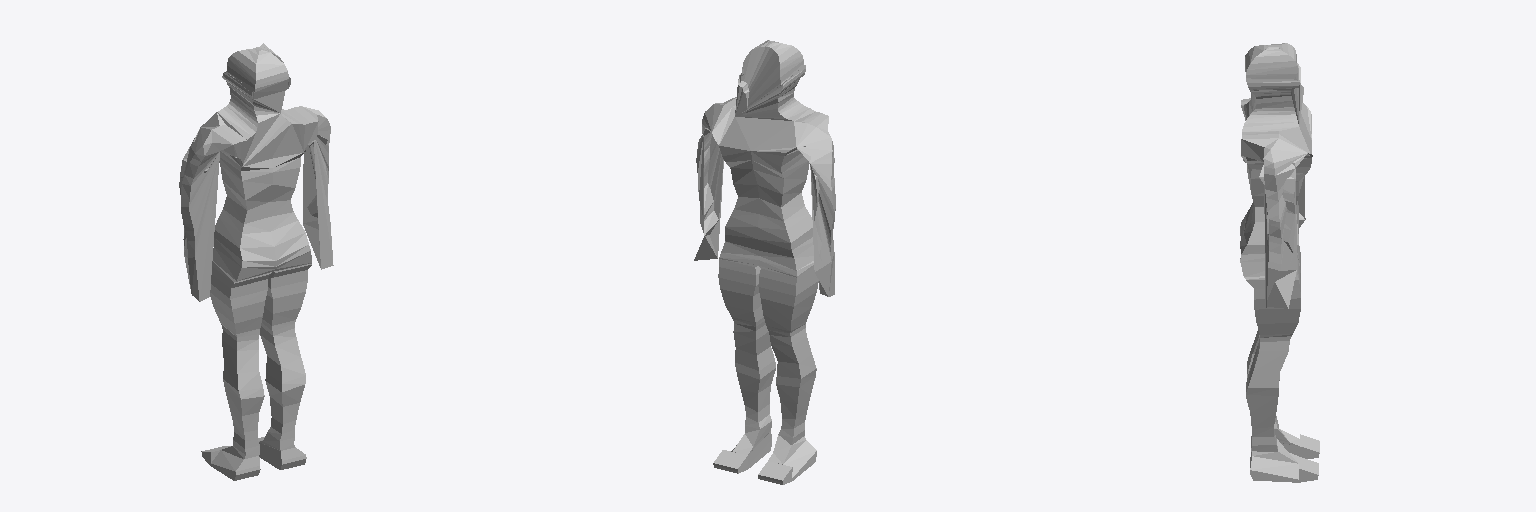
File: woman_000001.obj
3 renders of one model, left to right at view 1: azimuth 30°, elevation 25°; view 2: azimuth 150°, elevation 25°; view 3: azimuth 270°, elevation 25°, orthographic.
Parts seen in each view (by area): view 1: Cube_Cube.001; view 2: Cube_Cube.001; view 3: Cube_Cube.001.
Boxes of the visible parts, x1,y1,x2,y2 form: Cube_Cube.001: [179, 43, 333, 480]; Cube_Cube.001: [694, 40, 835, 484]; Cube_Cube.001: [1240, 43, 1319, 482].
Size of the model in its own units: 3.51 by 9.95 by 1.72.